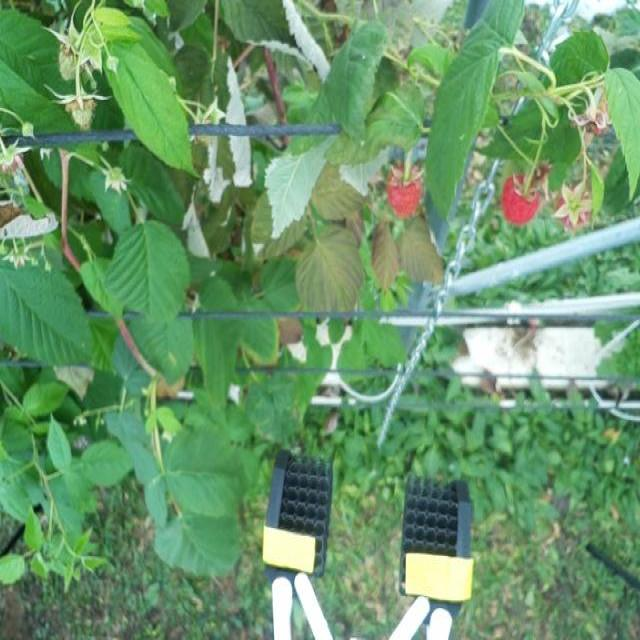Riped berries: (498, 167, 544, 228), (382, 162, 424, 222), (553, 180, 595, 231)
